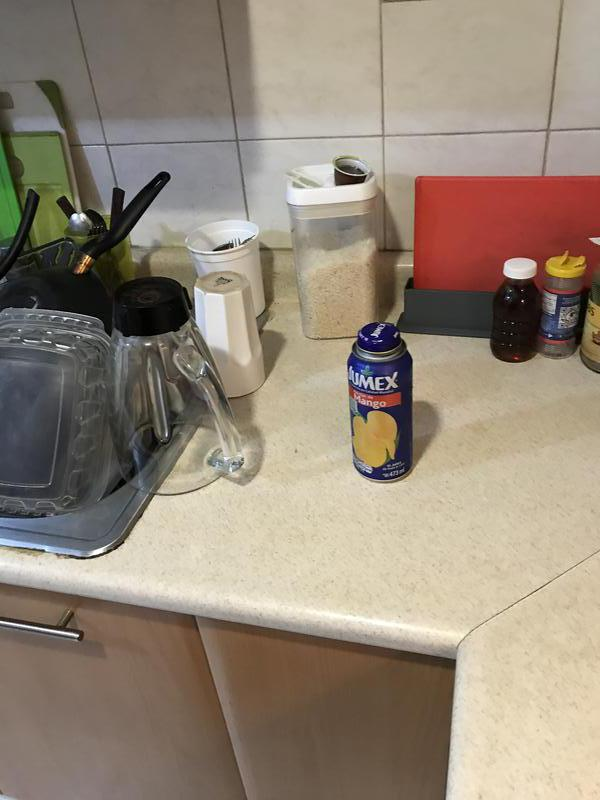jugo_jumex: (346, 319, 416, 484)
